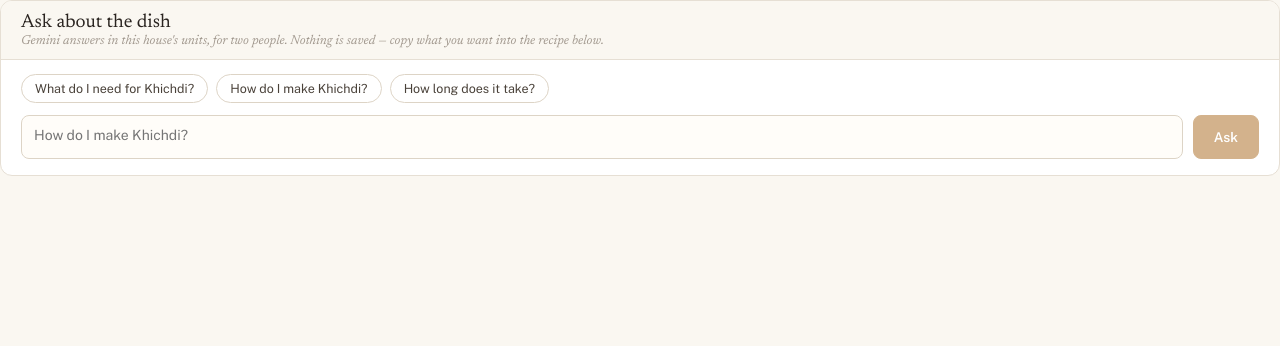
Test case: asking about the dish › start over clears the thread
Type "How?" into the text box named "ask about the dish".
click(602, 137); type("How?")  # box x1=21 y1=115 x2=1183 y2=159
Then press Enter
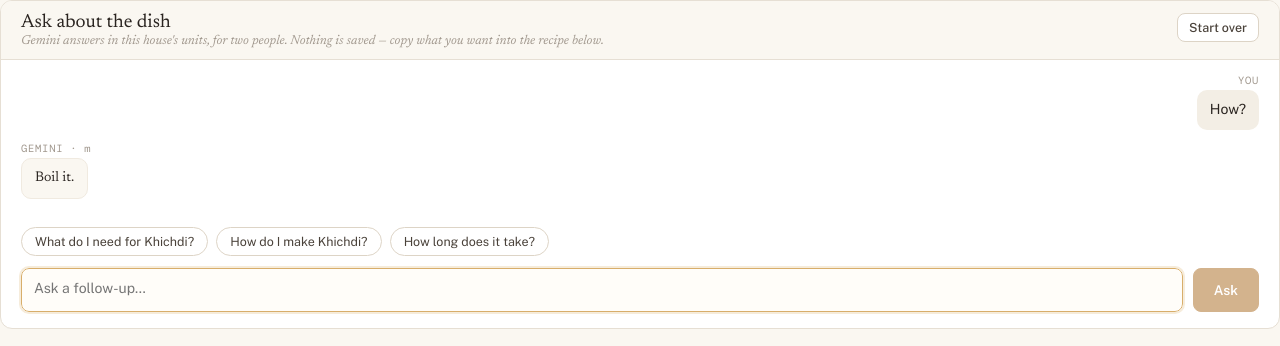
Expected: the text "Boil it." is shown, x1=21 y1=158 x2=88 y2=199
Click the button "Start over".
click(1218, 28)  # box x1=1177 y1=13 x2=1259 y2=42
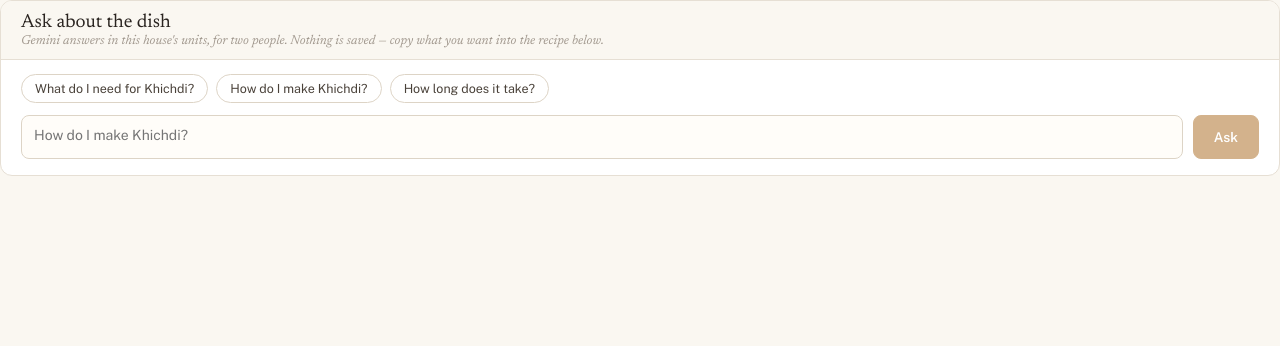
Expected: the text "Boil it." is gone
